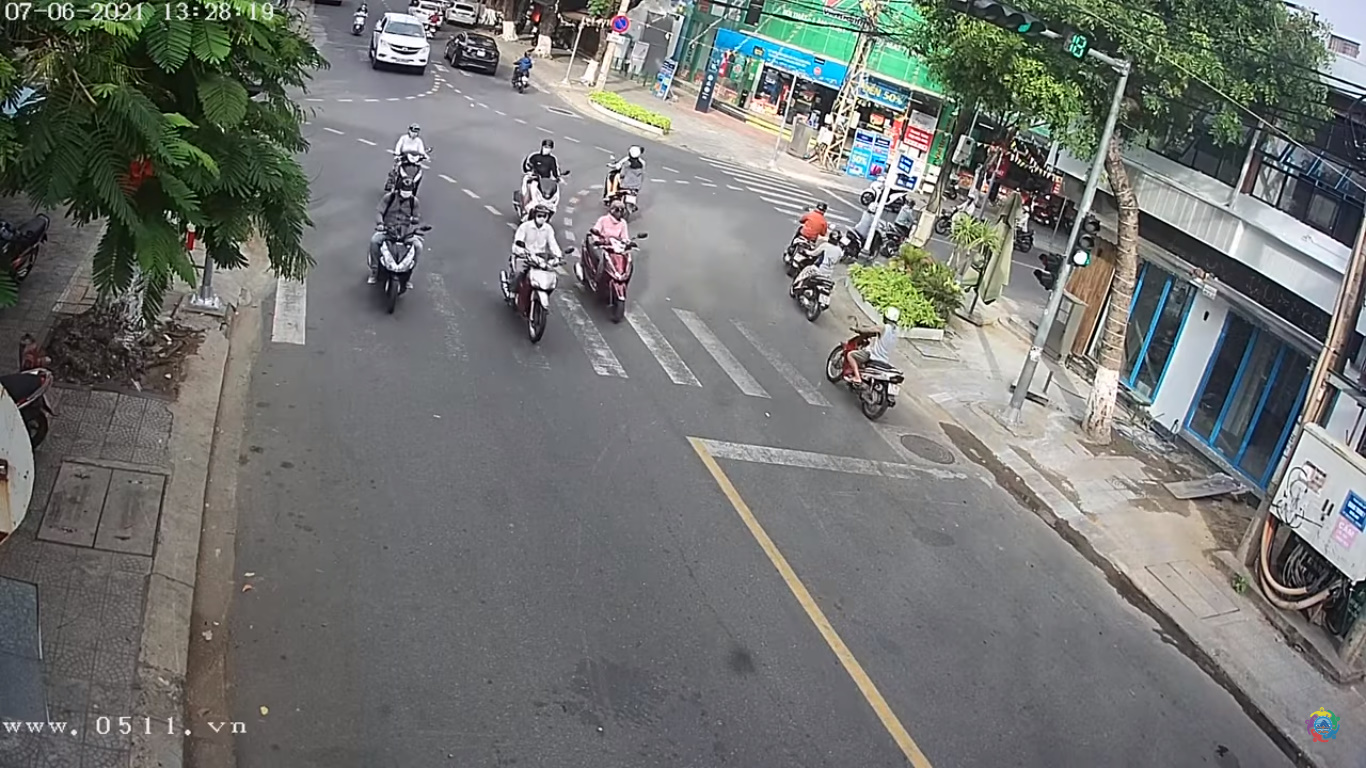car: (371, 13, 432, 69)
motorbike: (579, 203, 653, 326), (502, 207, 572, 331), (369, 181, 428, 308)
